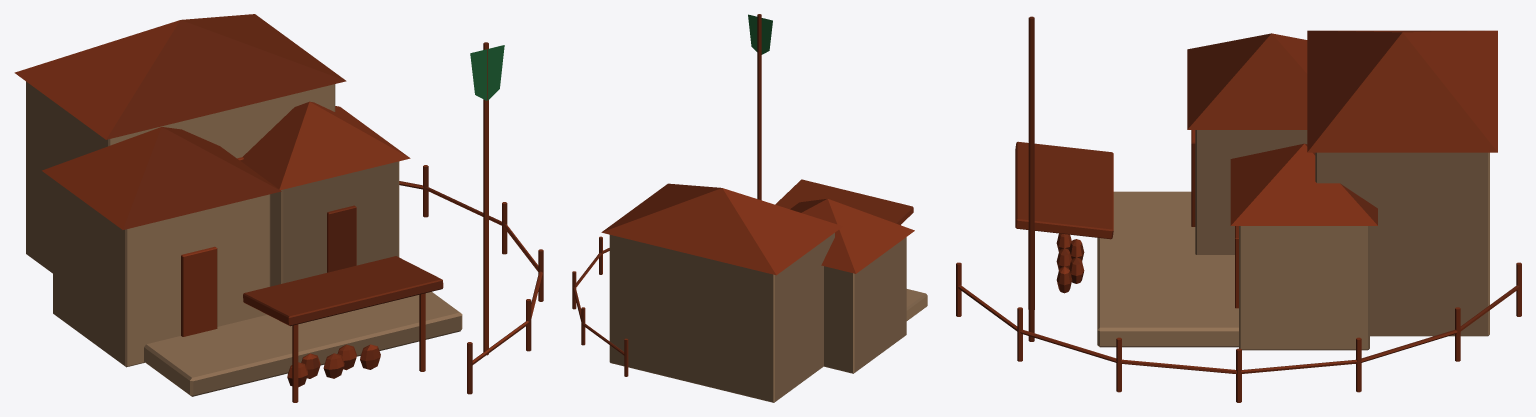
Rendered from edificio-b_002-e3-DKY6yYSK.glb.
3 renders of one model, left to right at view 1: azimuth 30°, elevation 25°; view 2: azimuth 150°, elevation 25°; view 3: azimuth 270°, elevation 25°, orthographic. The views are drawn at different scales.
Visible parts, largest first — view 1: edificio_b_002_e3_detalles, edificio_b_002_e3_envolvente, edificio_b_002_e3_team_color; view 2: edificio_b_002_e3_envolvente, edificio_b_002_e3_detalles, edificio_b_002_e3_team_color; view 3: edificio_b_002_e3_envolvente, edificio_b_002_e3_detalles.
Boxes of the visible parts, x1=… form: edificio_b_002_e3_detalles: x1=14, y1=14, x2=543, y2=402; edificio_b_002_e3_envolvente: x1=26, y1=81, x2=462, y2=396; edificio_b_002_e3_team_color: x1=470, y1=45, x2=504, y2=100; edificio_b_002_e3_envolvente: x1=609, y1=233, x2=927, y2=402; edificio_b_002_e3_detalles: x1=572, y1=14, x2=914, y2=376; edificio_b_002_e3_team_color: x1=748, y1=14, x2=772, y2=54; edificio_b_002_e3_envolvente: x1=1097, y1=130, x2=1489, y2=350; edificio_b_002_e3_detalles: x1=956, y1=16, x2=1521, y2=402.
Bounding box in the file's own units: 44.98 × 33 × 51.88.
3 materials, 3 textured.
